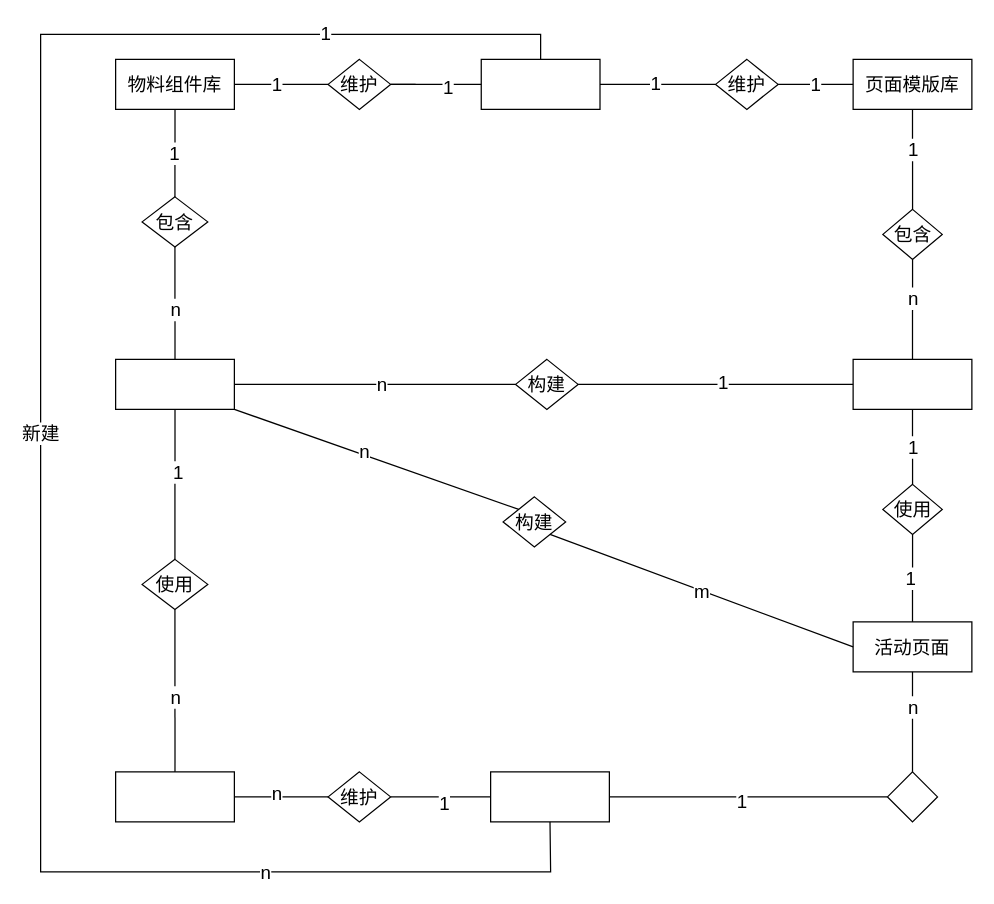
Image size: 994x904. Some labels were removed from this diagram. Each missing label, with the box of its shape:
平台用户: (489, 771, 609, 822)
平台管理员: (480, 58, 600, 109)
搭建: (886, 771, 938, 822)
数据源: (114, 771, 234, 822)
模版页面: (852, 358, 972, 409)
物料组件: (114, 358, 234, 409)
